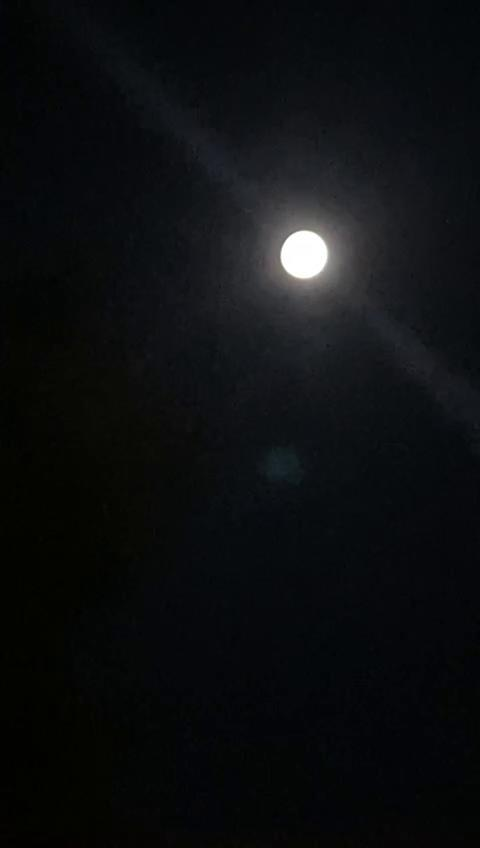moon: (253, 218, 340, 296)
